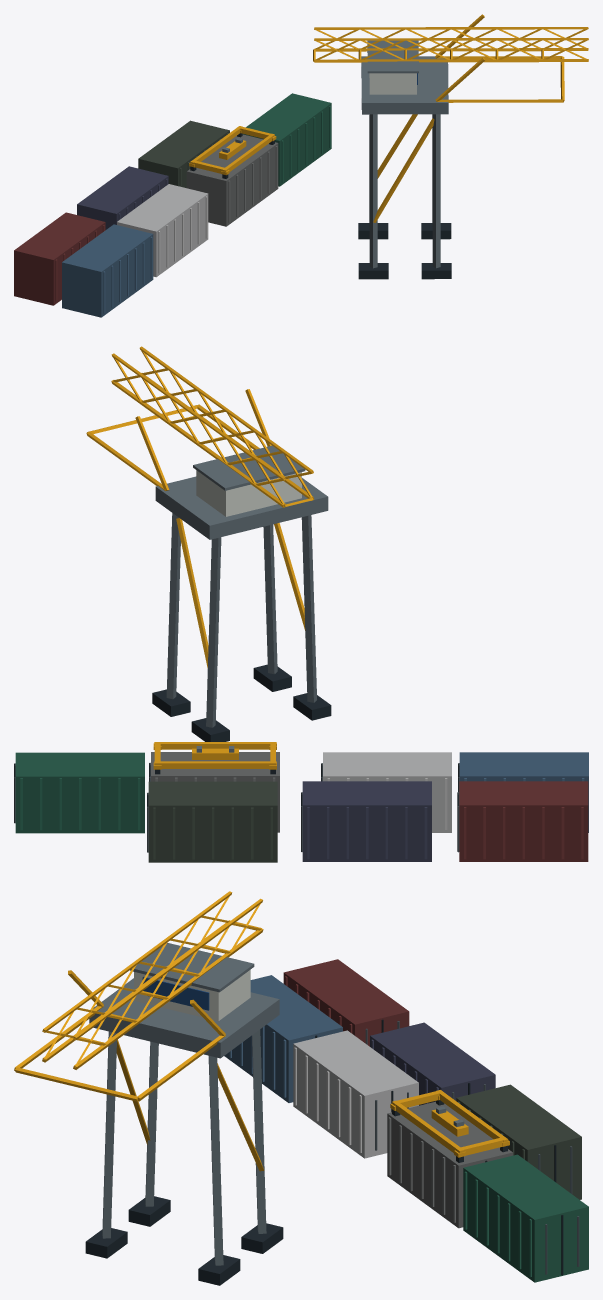
The model's file is gantry-crane-ne-sw-02.glb.
The picture shows the model from 3 angles, top to bottom: view 1: azimuth 30°, elevation 25°; view 2: azimuth 150°, elevation 25°; view 3: azimuth 270°, elevation 25°; orthographic projection. The views are drawn at different scales.
Parts seen in each view (by area): view 1: gantry-crane-ne-sw-02; view 2: gantry-crane-ne-sw-02; view 3: gantry-crane-ne-sw-02.
Boxes of the visible parts, x1,y1,x2,y2 form: gantry-crane-ne-sw-02: (14,14,588,317); gantry-crane-ne-sw-02: (14,346,588,862); gantry-crane-ne-sw-02: (14,891,588,1285).
Bounding box in the file's own units: 70.22 × 31.18 × 53.17.
